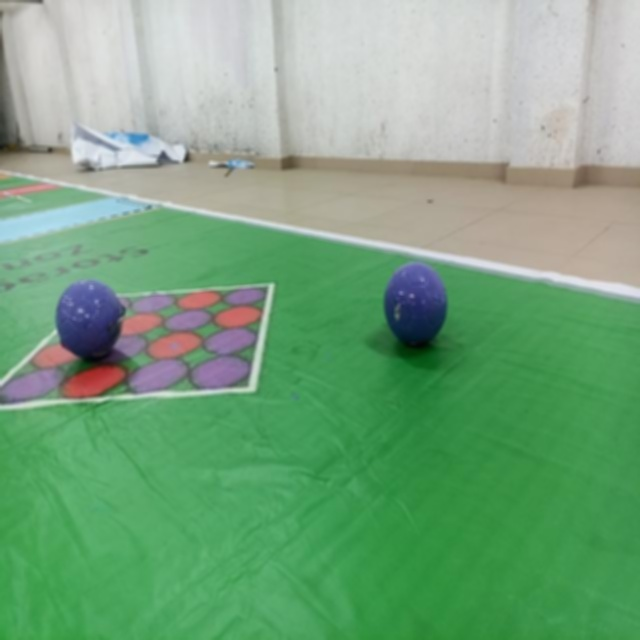purple_ball: (54, 271, 129, 368), (380, 248, 447, 354)
